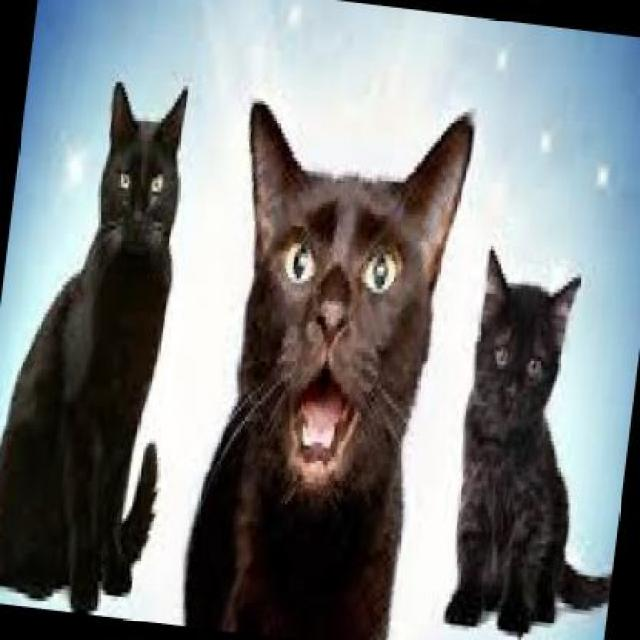animals: (180, 59, 492, 638), (0, 47, 225, 618), (428, 231, 638, 638)
